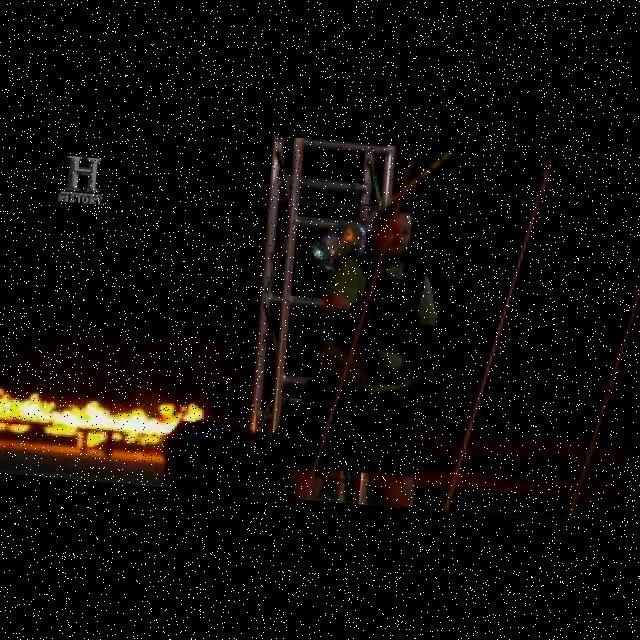Fire: (0, 382, 206, 446)
